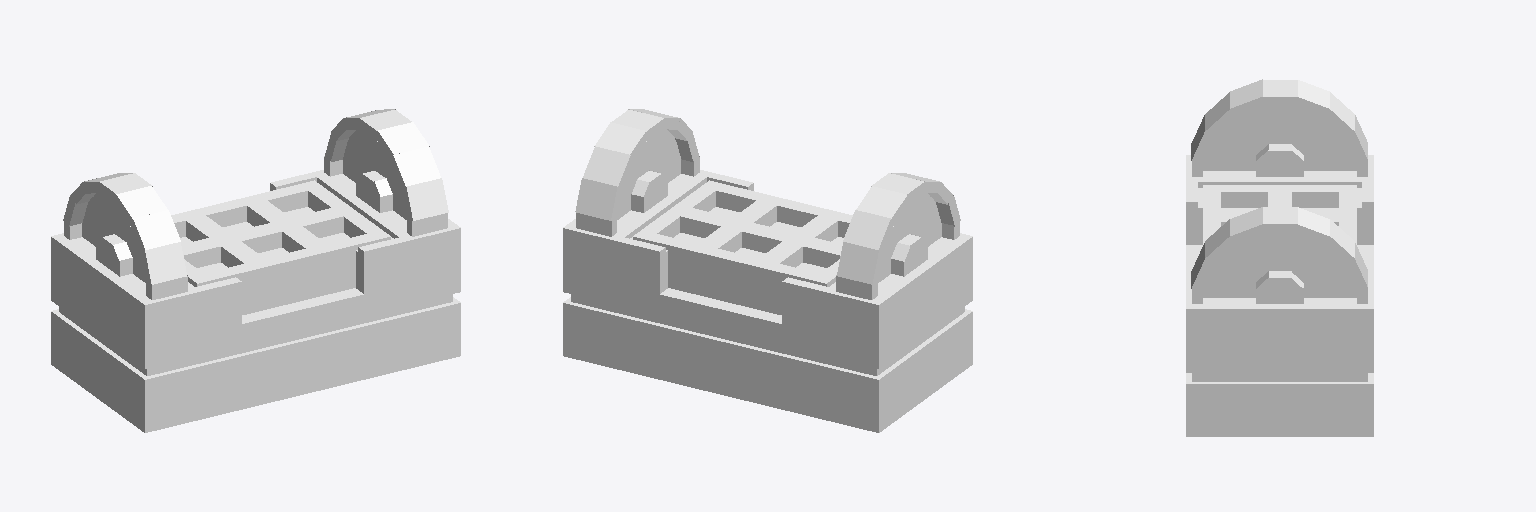
File: healer.obj
3 renders of one model, left to right at view 1: azimuth 30°, elevation 25°; view 2: azimuth 150°, elevation 25°; view 3: azimuth 270°, elevation 25°, orthographic.
Visible parts, largest first — view 1: Element #1, Element #22, Element #15, Element #19, Element #16, Element #2, Element #3, Element #23, Element #4, Element #17, Element #13, Element #29 (+18 smaller); view 2: Element #1, Element #22, Element #15, Element #19, Element #16, Element #4, Element #3, Element #23, Element #2, Element #18, Element #14, Element #34 (+18 smaller); view 3: Element #1, Element #19, Element #22, Element #41, Element #61, Element #15, Element #23, Element #9, Element #11, Element #30, Element #51, Element #53 (+21 smaller).
Part boxes in pixels (x1,y1,x2,y2): Element #1: (51,297,460,432); Element #22: (51,271,460,368); Element #15: (51,233,200,347); Element #19: (312,170,460,283); Element #16: (180,207,355,314); Element #2: (189,230,390,288); Element #3: (181,204,357,267); Element #23: (59,294,452,375); Element #4: (171,180,322,237); Element #17: (358,238,404,293); Element #13: (196,277,241,333); Element #29: (140,242,186,284); Element #1: (563,297,972,432); Element #22: (563,271,972,368); Element #15: (823,233,972,347); Element #19: (563,170,711,283); Element #16: (668,207,843,314); Element #4: (633,230,834,288); Element #3: (666,204,842,267); Element #23: (571,294,964,375); Element #2: (701,180,852,237); Element #18: (619,238,665,293); Element #14: (782,277,827,333); Element #34: (837,242,884,284); Element #1: (1186,373,1373,436); Element #19: (1186,282,1373,351); Element #22: (1186,245,1373,372); Element #41: (1239,108,1320,170); Element #61: (1239,235,1320,297); Element #15: (1186,155,1373,187); Element #23: (1192,373,1367,381); Element #9: (1221,185,1267,207); Element #11: (1292,185,1338,207); Element #30: (1262,80,1297,107); Element #51: (1230,207,1266,245); Element #53: (1293,207,1329,246).
Size of the model in its own units: 31 by 19.52 by 16.